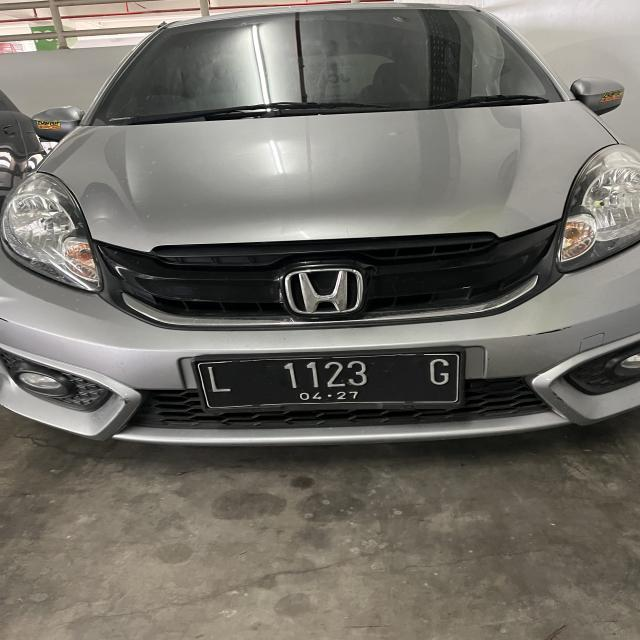1: (280, 361, 301, 390), (305, 360, 320, 388)
2: (326, 358, 346, 388)
3: (348, 358, 368, 388)
G: (430, 356, 452, 388)
L: (205, 367, 232, 392)
